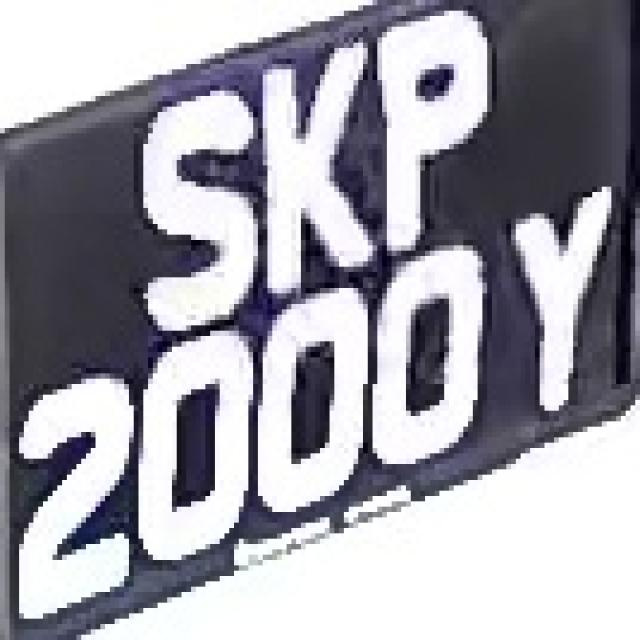0: (253, 288, 382, 533), (143, 330, 253, 570), (368, 256, 487, 469)
2: (10, 357, 134, 635)
K: (244, 54, 368, 278)
P: (378, 6, 526, 246)
S: (115, 91, 262, 325)
Y: (492, 192, 621, 437)
